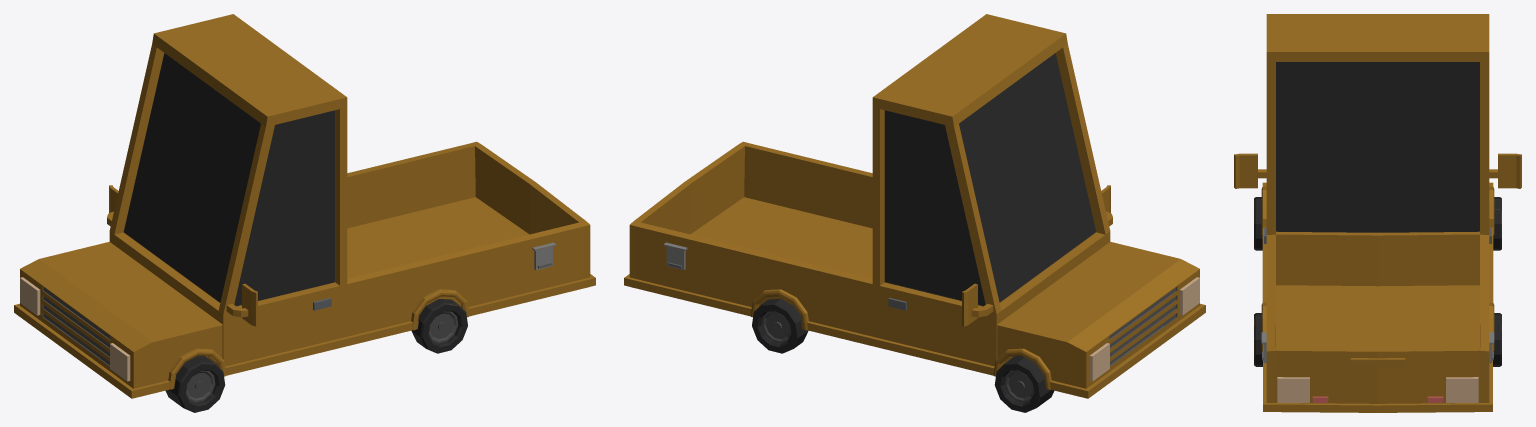
Rendered from SmallCarYellow.fbx.
3 renders of one model, left to right at view 1: azimuth 30°, elevation 25°; view 2: azimuth 150°, elevation 25°; view 3: azimuth 270°, elevation 25°, orthographic. The views are drawn at different scales.
Visible parts, largest first — view 1: CarColored.000_Cube.3470; view 2: CarColored.000_Cube.3470; view 3: CarColored.000_Cube.3470.
Part boxes in pixels (left/top/right/bottom): CarColored.000_Cube.3470: left=14, top=14, right=595, bottom=412; CarColored.000_Cube.3470: left=624, top=14, right=1205, bottom=412; CarColored.000_Cube.3470: left=1234, top=14, right=1521, bottom=412.
Bounding box in the file's own units: 48.49 × 27.16 × 26.47.
